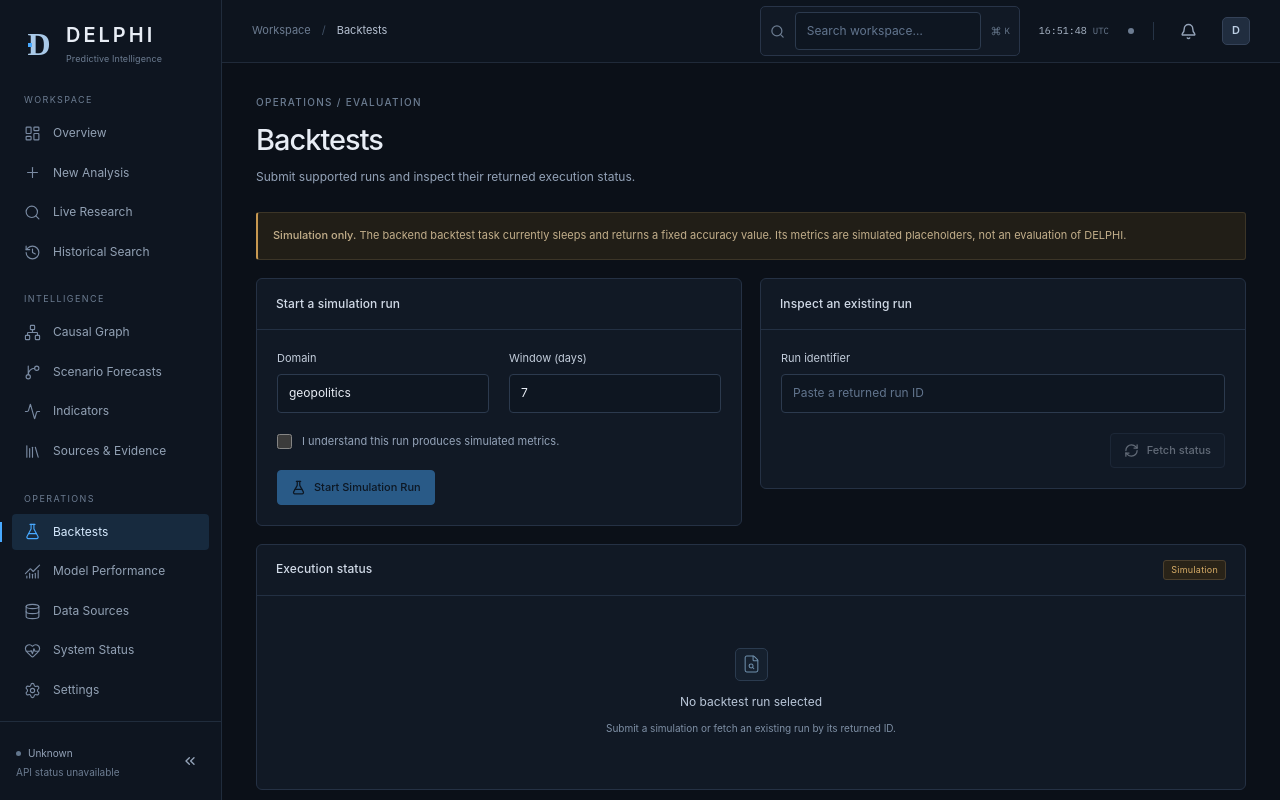
Scenario: frontend contract integration › requires simulation acknowledgment and renders returned backtest metrics with labels
Expected: the button "Start Simulation Run" is disabled, [277,470,435,505]
Click the checkbox labelled "I understand this run produces simulated metrics.".
click(284, 441)  # box [277,434,292,449]
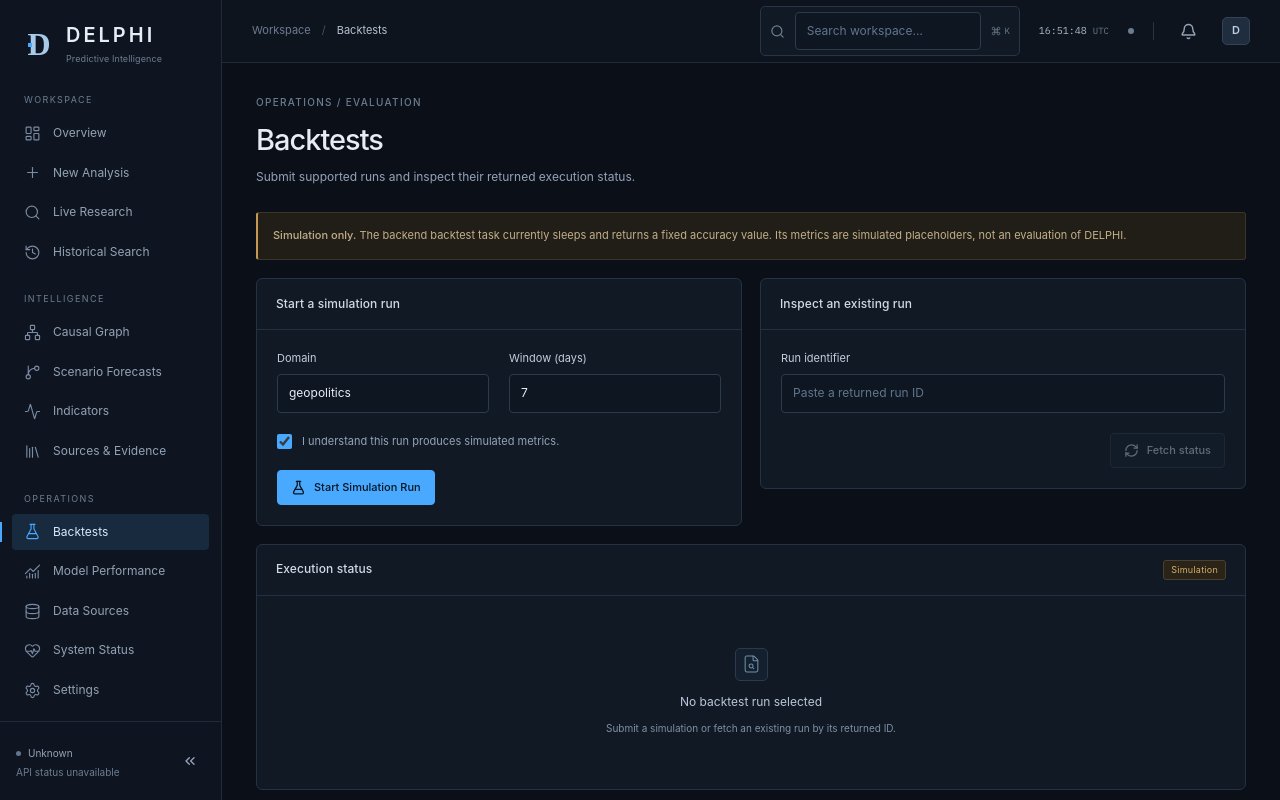
Click the button "Start Simulation Run".
click(356, 487)  # box [277,470,435,505]
(page scrolled)
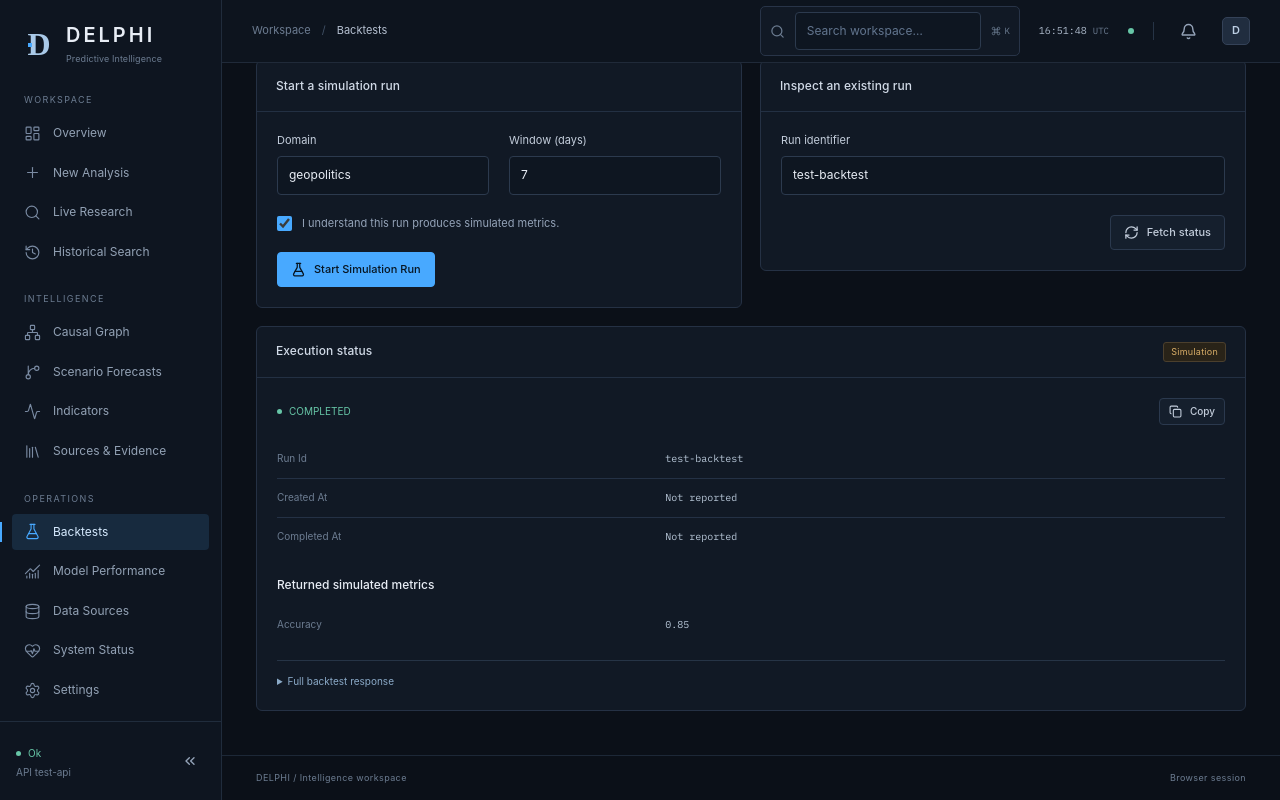
Expected: the heading "Returned simulated metrics" is shown, [277,577,434,592]
